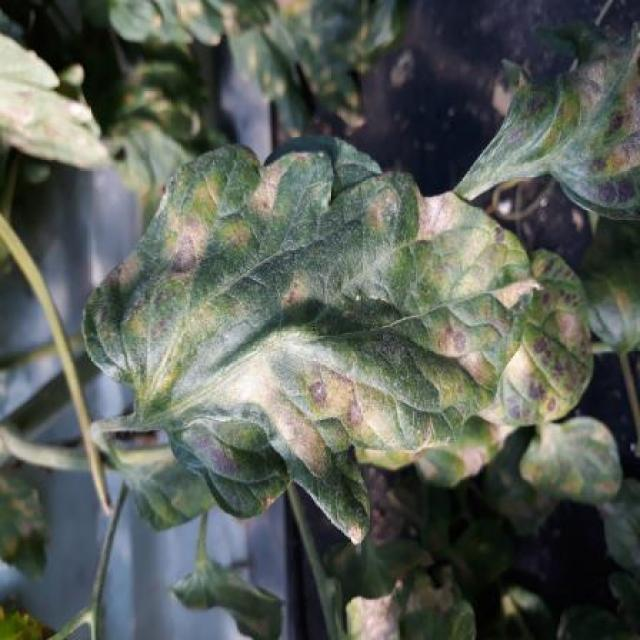Leaf Mold: (82, 142, 595, 549)
